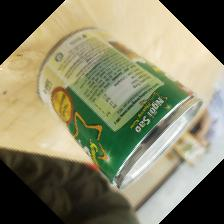NSPN_Lon: (36, 27, 204, 190)
